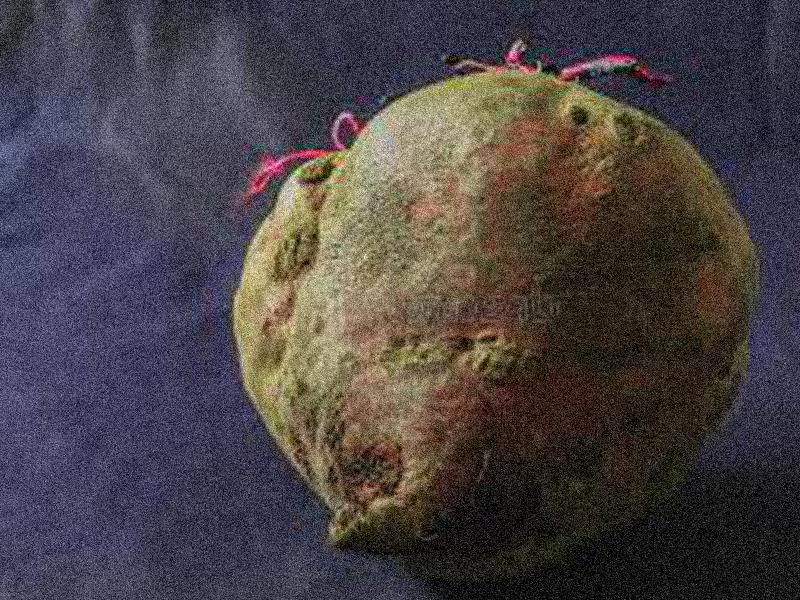Beet: (233, 45, 755, 576)
